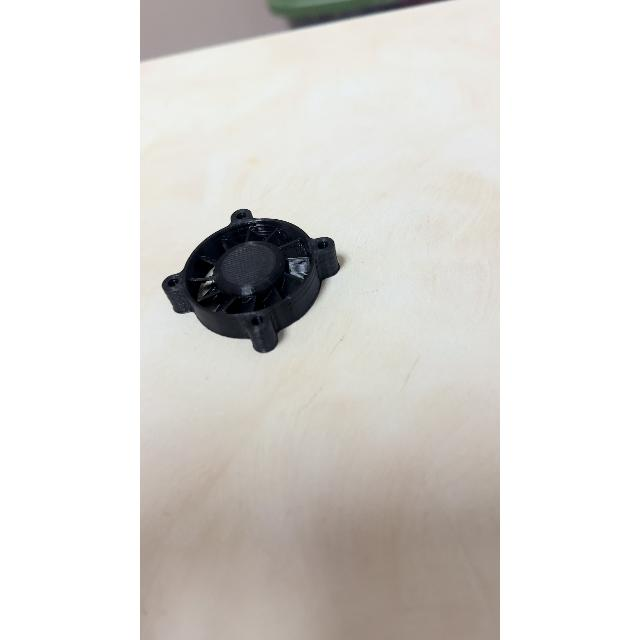Pieza_4: (166, 174, 350, 380)
